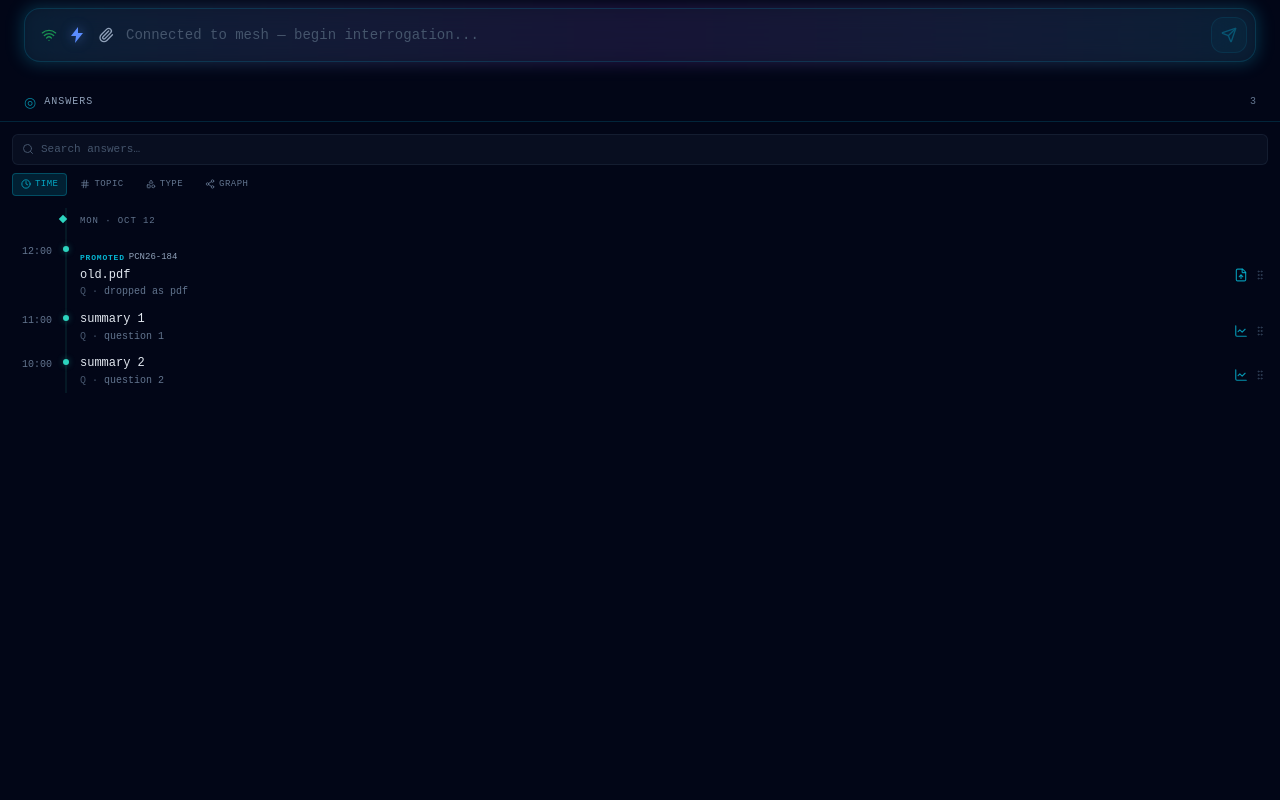
Test: a failed drop's reason and the notice id on the rail › notice_id is on the rail entry and the opened card, and the rail finds the entry by it
The image size is (1280, 800).
Expected: the text "PCN26-184" is shown, [129,251,177,265]
Step 1. Type "PCN26-184" into the field with placeholder "Search answers…" → (640, 149), box [12,134,1268,164]
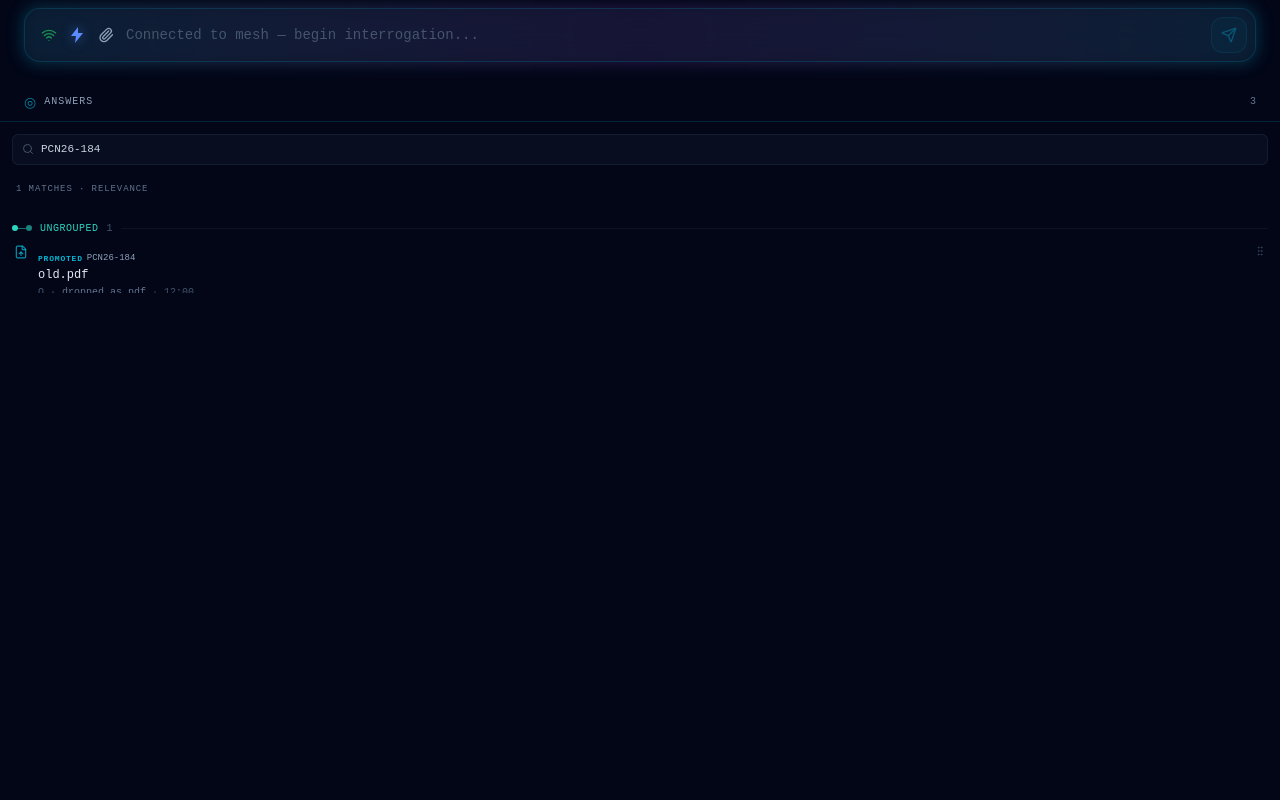
Now the element showing "promoted PCN26-184 old.pdf Q · dropped as pdf · 12:00" is shown, box [8,236,1272,292]
Step 2. Clear the field with placeholder "Search answers…" → (640, 149), box [12,134,1268,164]
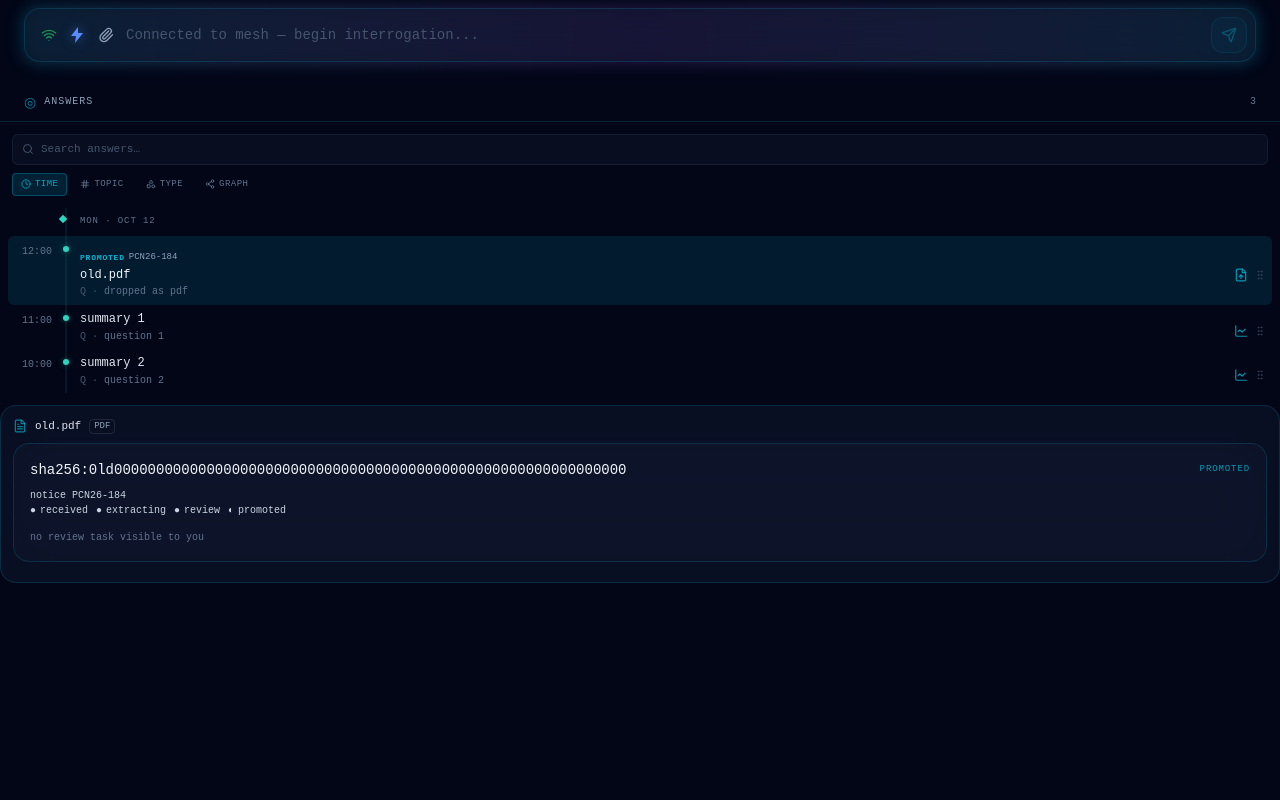
Now the text "notice PCN26-184" is shown, box [30,490,126,500]
